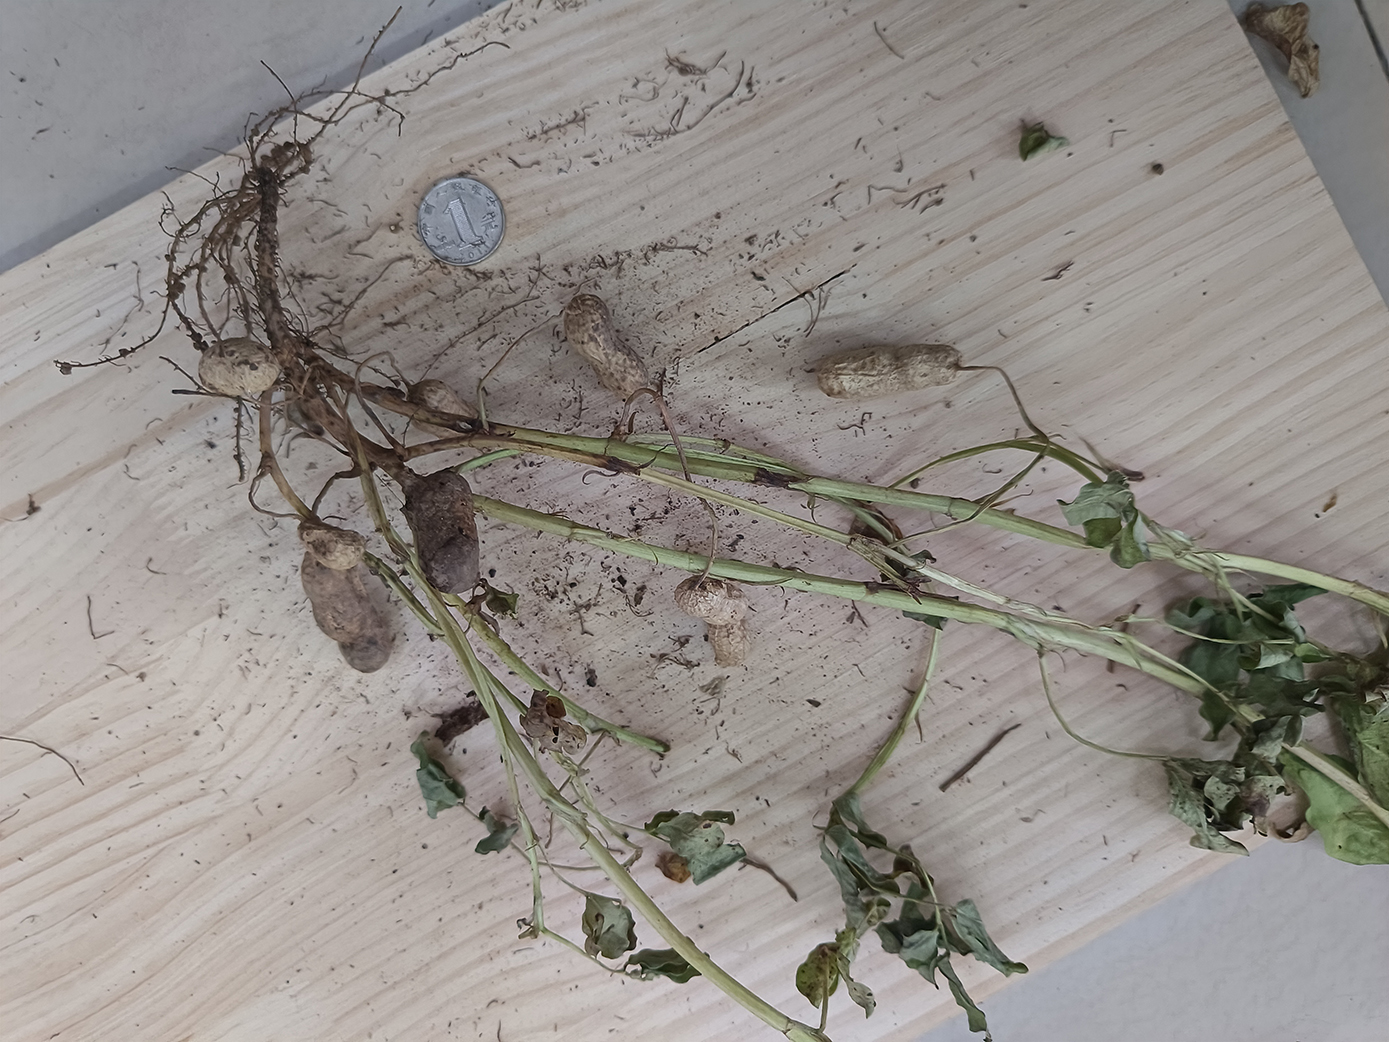h: (562, 292, 646, 401), (818, 343, 963, 400), (674, 572, 752, 672), (195, 337, 278, 398), (406, 380, 481, 440), (301, 520, 364, 569)
l: (403, 468, 481, 597), (301, 565, 394, 671)
